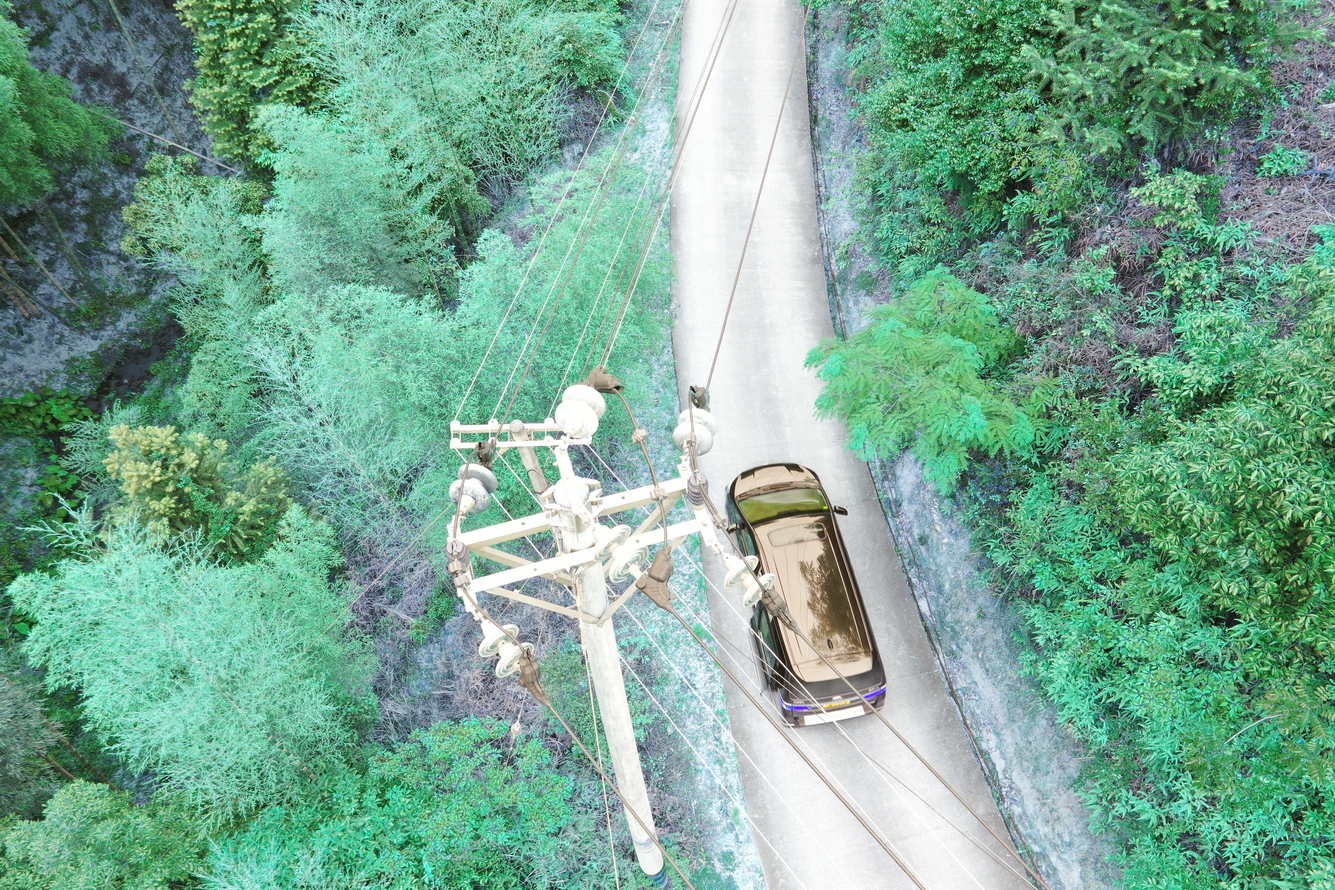severe_soiling_no_discharge_whole: (588, 521, 650, 583), (475, 619, 535, 678), (718, 550, 776, 610), (555, 384, 607, 440), (447, 462, 497, 514), (672, 406, 718, 456)
